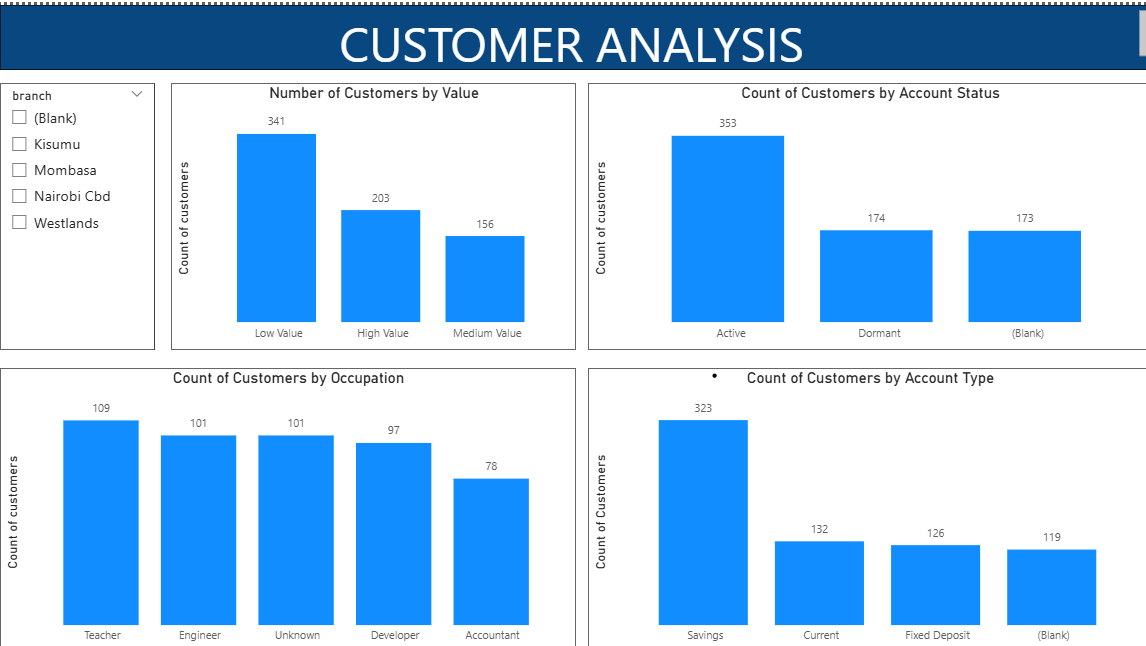

Layout of this report page (visuals, bound fields, positions):
{"tool":"powerbi","page":{"name":"Customer Analysis","canvas":[1280,720],"ordinal":1},"visuals":[{"type":"clusteredColumnChart","title":"Count of Customers by Occupation","fields":{"Category":["public dim_customers.occupation"],"Y":["CountNonNull(public dim_customers.customer_id)"]},"box":[0,403.3,640,316.7],"z":0},{"type":"actionButton","box":[0,0,100,40],"z":1000},{"type":"clusteredColumnChart","title":"Count of Customers by Account Status","fields":{"Category":["public dim_accounts.account_status"],"Y":["CountNonNull(public dim_accounts.customer_id)"]},"box":[653.3,86.7,626.7,296.7],"z":2000},{"type":"clusteredColumnChart","title":"Number of Customers by Value","fields":{"Category":["public dim_accounts.Customer value"],"Y":["CountNonNull(public dim_accounts.customer_id)"]},"box":[190,86.7,450,296.7],"z":3000},{"type":"clusteredColumnChart","title":"Count of Customers by Account Type","fields":{"Category":["public dim_accounts.account_type"],"Y":["CountNonNull(public dim_accounts.customer_id)"]},"box":[653.3,403.3,626.7,316.7],"z":3002},{"type":"slicer","fields":{"Values":["public dim_accounts.branch"]},"box":[0,86.7,171.7,296.7],"z":3003},{"type":"textbox","box":[0,0,1280,71.7],"z":3004}]}

Visuals, with their boxes in screenshot pixels (x1, y1, x2, y2), scaled from the page's 1280x720 canvas onto the 1146x646 screenshot:
"Count of Customers by Occupation" clusteredColumnChart: (0, 362, 573, 645)
actionButton: (0, 0, 90, 36)
"Count of Customers by Account Status" clusteredColumnChart: (585, 78, 1145, 344)
"Number of Customers by Value" clusteredColumnChart: (170, 78, 573, 344)
"Count of Customers by Account Type" clusteredColumnChart: (585, 362, 1145, 645)
slicer - public dim_accounts.branch: (0, 78, 154, 344)
textbox: (0, 0, 1145, 64)
